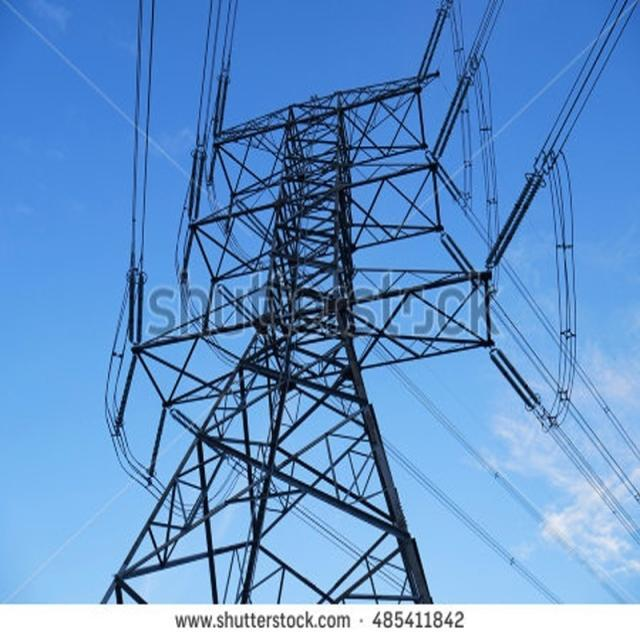non-critical vegetation: (111, 66, 522, 606)
